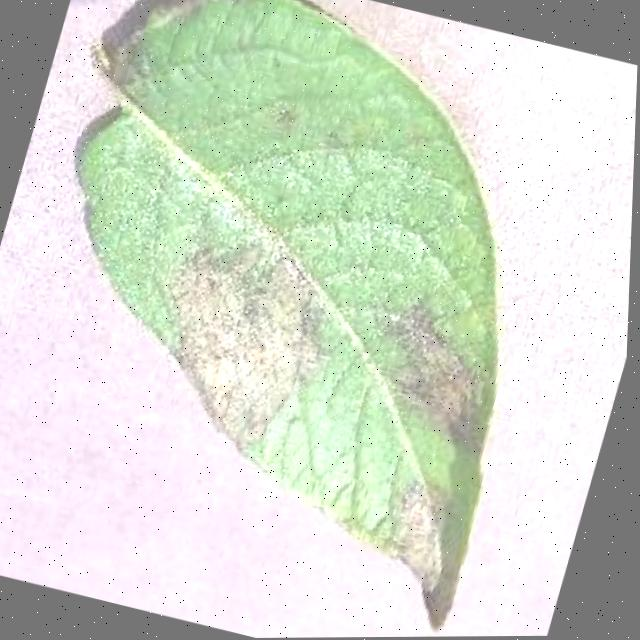Late_blight: (115, 208, 366, 482), (331, 267, 544, 463), (352, 461, 496, 637)
